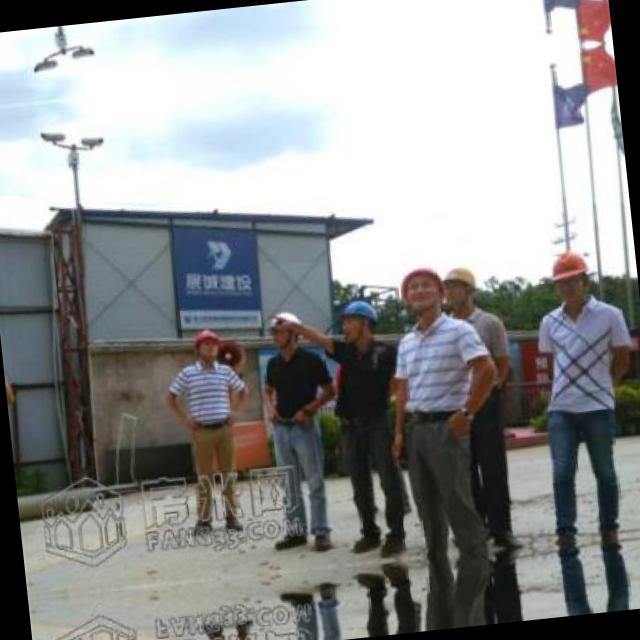helmet: (396, 258, 448, 326), (546, 248, 596, 311), (331, 294, 378, 354), (434, 258, 481, 316), (267, 306, 304, 354), (188, 326, 226, 368)
